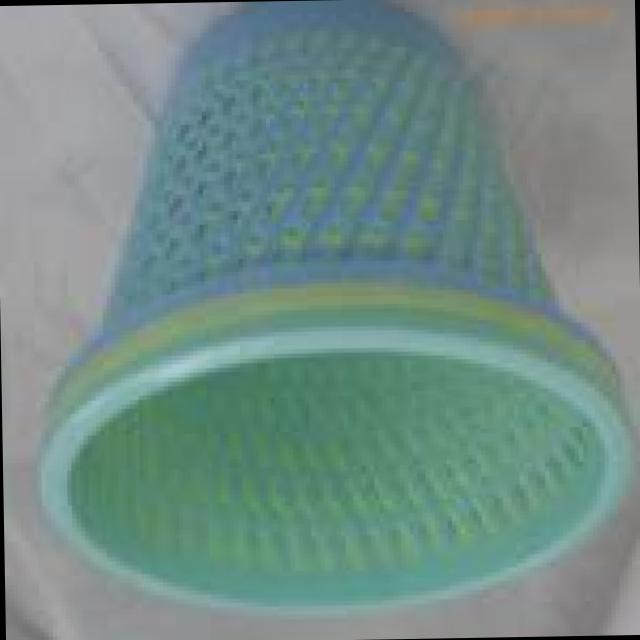dustbin: (24, 0, 640, 637)
